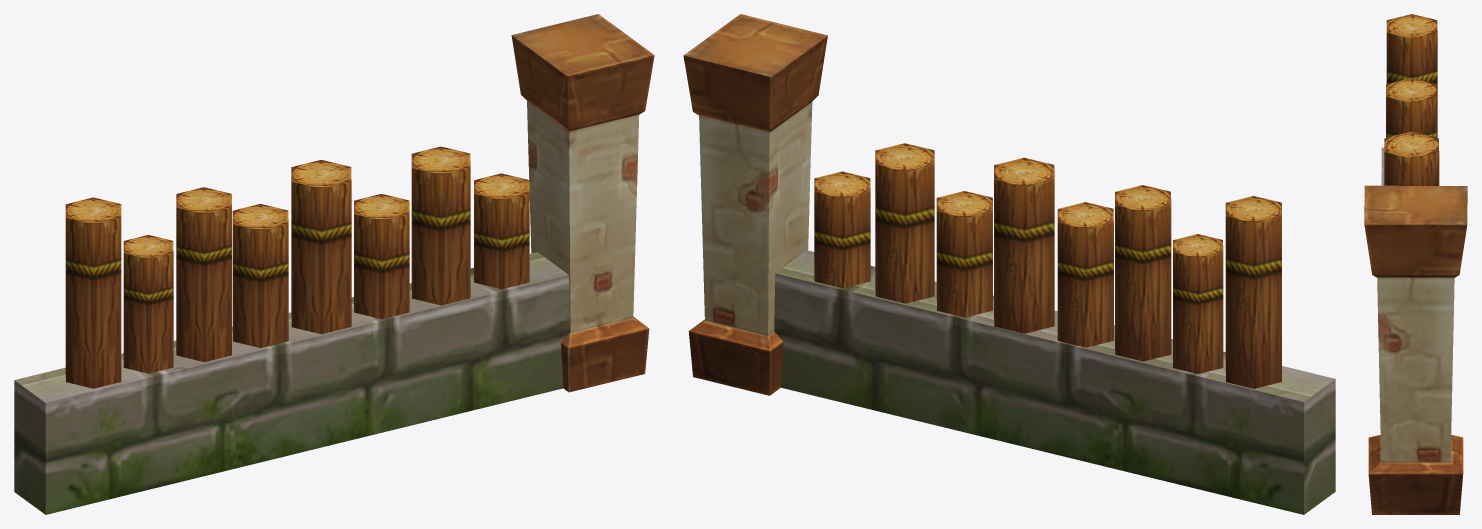
The model's file is Chengqiang01.FBX.
The picture shows the model from 3 angles, left to right: view 1: azimuth 30°, elevation 25°; view 2: azimuth 150°, elevation 25°; view 3: azimuth 270°, elevation 25°; orthographic projection. The views are drawn at different scales.
Visible parts, largest first — view 1: Chengqiang; view 2: Chengqiang; view 3: Chengqiang.
Part boxes in pixels (box(x1,y1,x2,y2)): Chengqiang: box(14, 14, 654, 514); Chengqiang: box(683, 14, 1335, 514); Chengqiang: box(1364, 14, 1467, 514).
Size of the model in its own units: 272 by 139 by 44.43.
